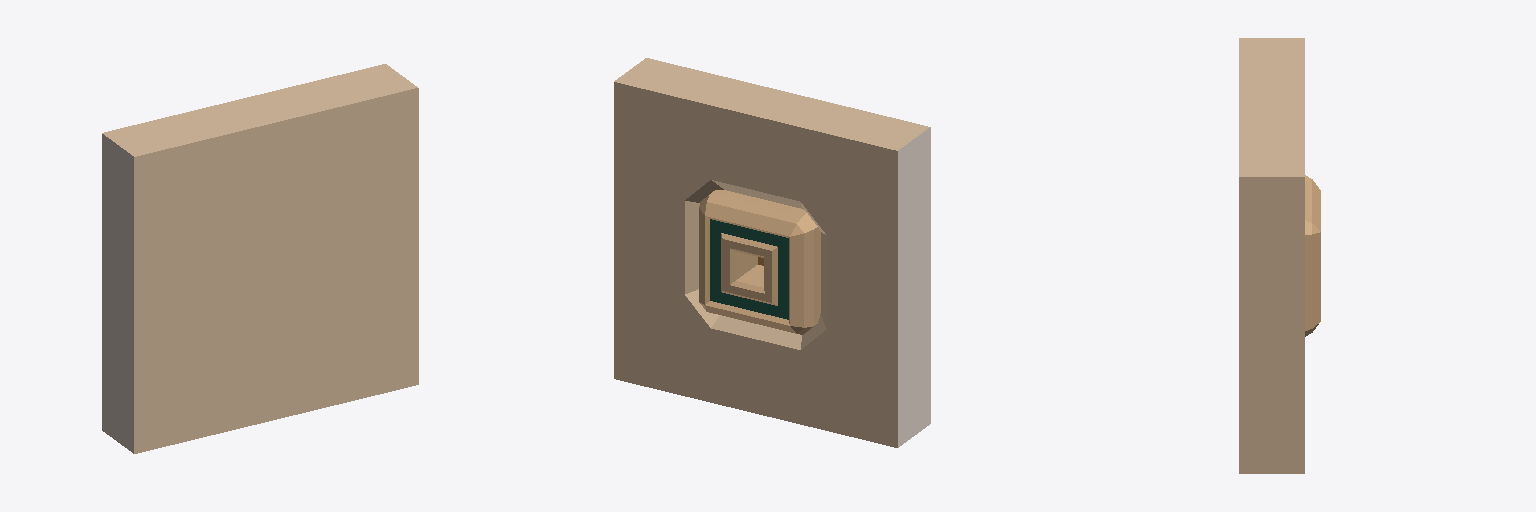
File: Puzzle_Wall_Conduit_Keyhole_Unconnected.obj
The picture shows the model from 3 angles: view 1: azimuth 30°, elevation 25°; view 2: azimuth 150°, elevation 25°; view 3: azimuth 270°, elevation 25°; orthographic projection.
Visible parts, largest first — view 1: object1; view 2: object1, object3, object2; view 3: object1, object3.
Part boxes in pixels (left/top/right/bottom): object1: left=102, top=64, right=418, bottom=453; object1: left=614, top=58, right=930, bottom=447; object3: left=699, top=190, right=820, bottom=334; object2: left=710, top=219, right=788, bottom=319; object1: left=1239, top=38, right=1304, bottom=473; object3: left=1305, top=175, right=1320, bottom=336.
Size of the model in its own units: 1 by 1 by 0.25.